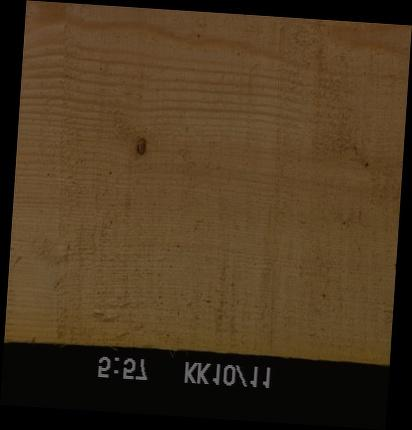dry_knot: (134, 136, 146, 157)
small_knot: (360, 159, 370, 170)
